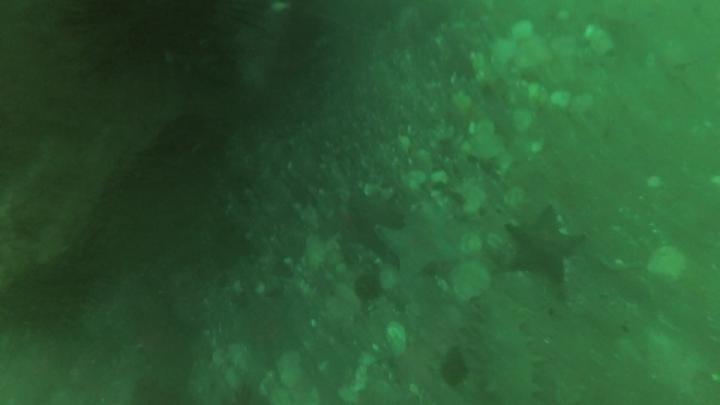echinus: (56, 2, 272, 90), (2, 259, 95, 337)
holothurian: (471, 292, 544, 405)
starfish: (375, 203, 463, 279), (504, 205, 585, 283), (230, 290, 307, 363)
